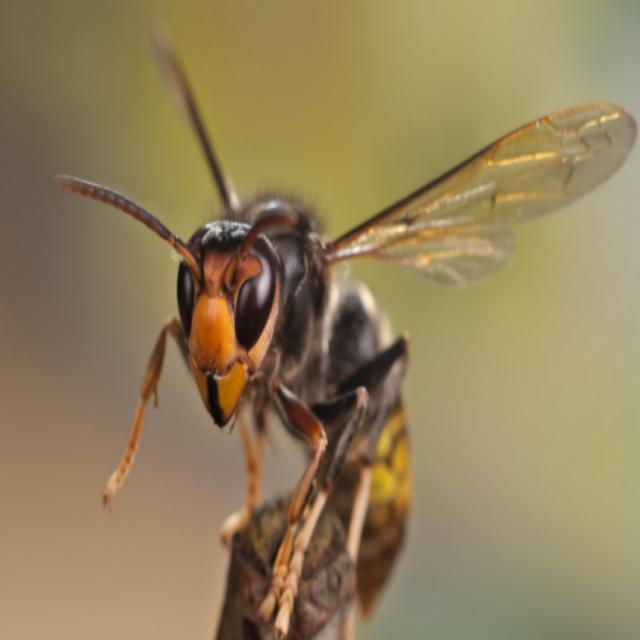Wasp: (67, 8, 638, 628)
